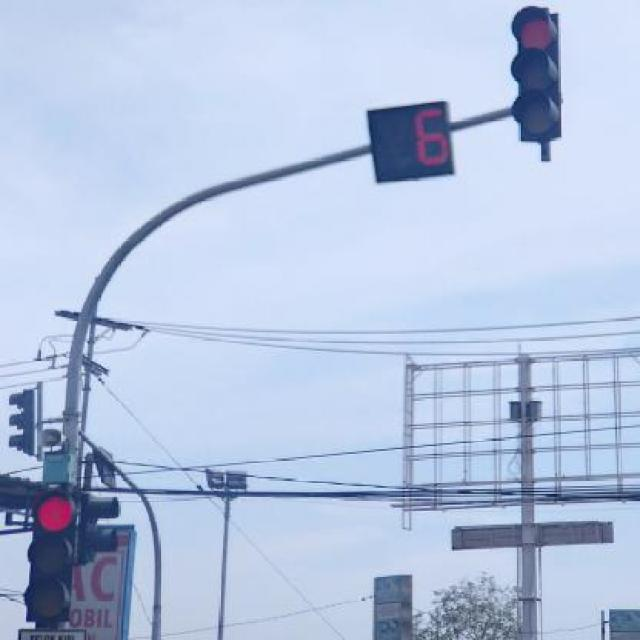traffic light: (22, 492, 82, 620), (516, 8, 562, 138)
